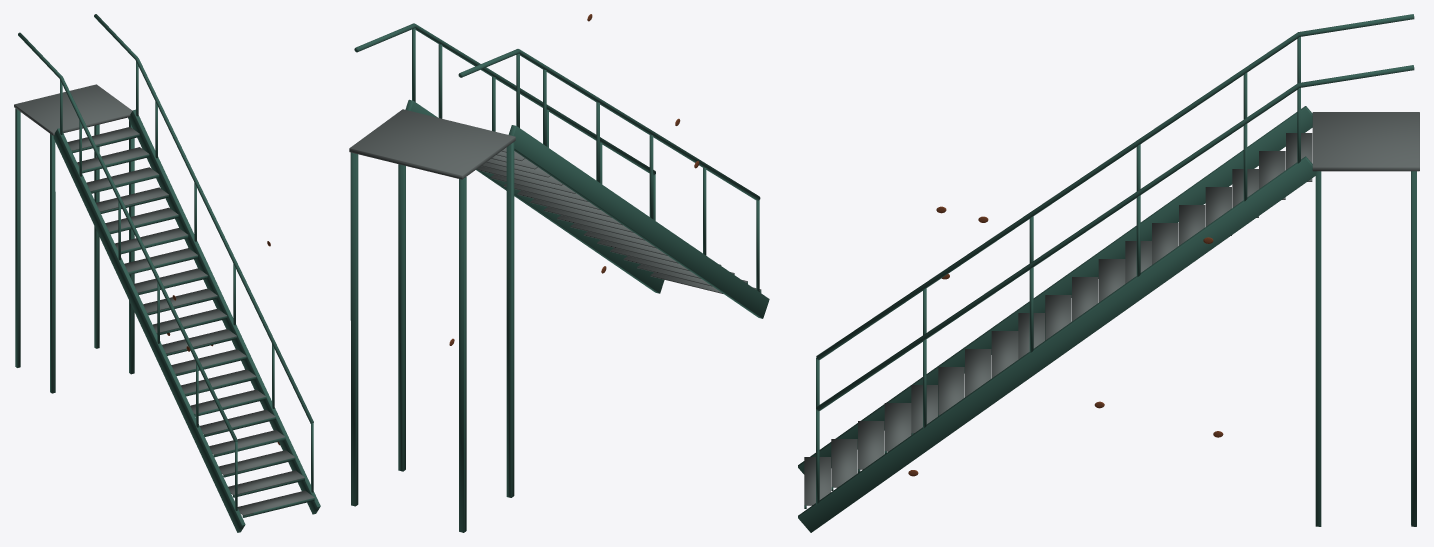
Rendered from cau_thang_332_425_95.glb.
3 views of the same model, side by side, from view 1: azimuth 30°, elevation 25°; view 2: azimuth 150°, elevation 25°; view 3: azimuth 270°, elevation 25° (orthographic). The views are drawn at different scales.
Parts seen in each view (by area): view 1: cau_thang_332_425_95; view 2: cau_thang_332_425_95; view 3: cau_thang_332_425_95.
Boxes of the visible parts, x1=… form: cau_thang_332_425_95: x1=14, y1=14, x2=320, y2=532; cau_thang_332_425_95: x1=349, y1=14, x2=769, y2=532; cau_thang_332_425_95: x1=798, y1=14, x2=1419, y2=532.
Bounding box in the file's own units: 1.1 × 4.31 × 5.21.
